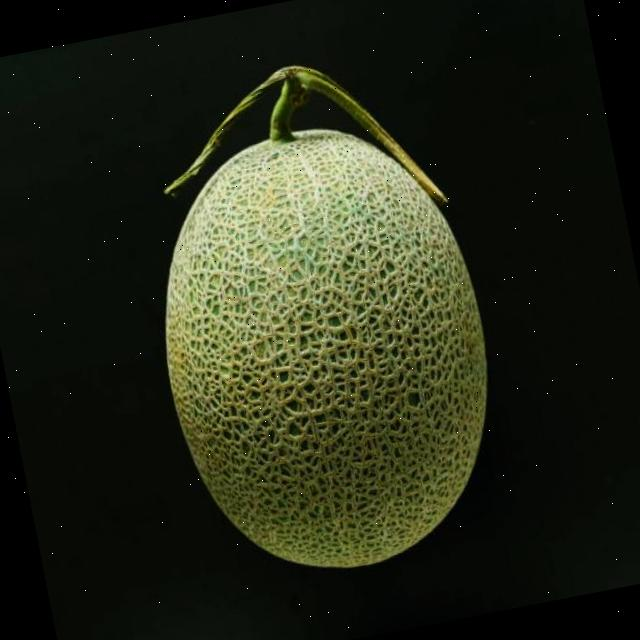Hami Melon: (130, 107, 522, 592)
